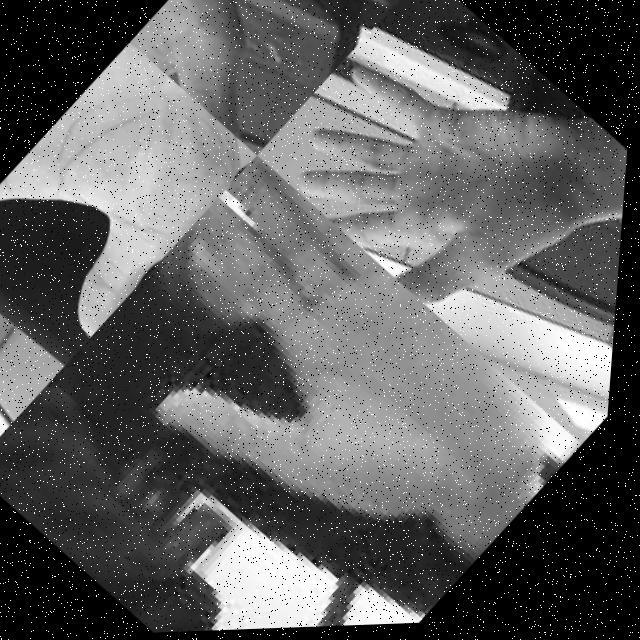no-gloves: (62, 148, 570, 628), (260, 0, 640, 351), (0, 39, 266, 382), (123, 0, 412, 161)
